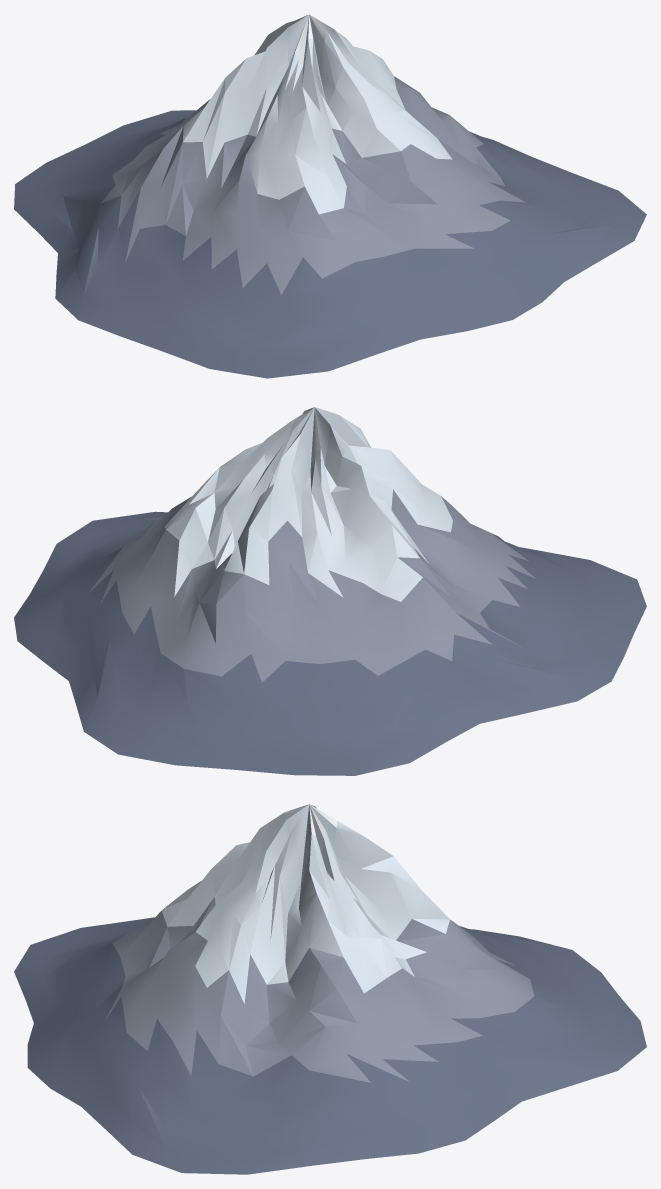
Rendered from MontanaNieve1.fbx.
3 renders of one model, top to bottom at view 1: azimuth 30°, elevation 25°; view 2: azimuth 150°, elevation 25°; view 3: azimuth 270°, elevation 25°, orthographic. The views are drawn at different scales.
Visible parts, largest first — view 1: MontanaNieve1; view 2: MontanaNieve1; view 3: MontanaNieve1.
Boxes of the visible parts, <box> form: MontanaNieve1: <box>14,14,646,378</box>; MontanaNieve1: <box>14,407,646,775</box>; MontanaNieve1: <box>14,804,646,1174</box>.
Size of the model in its own units: 626 by 247 by 617.
1 material, 1 textured.
